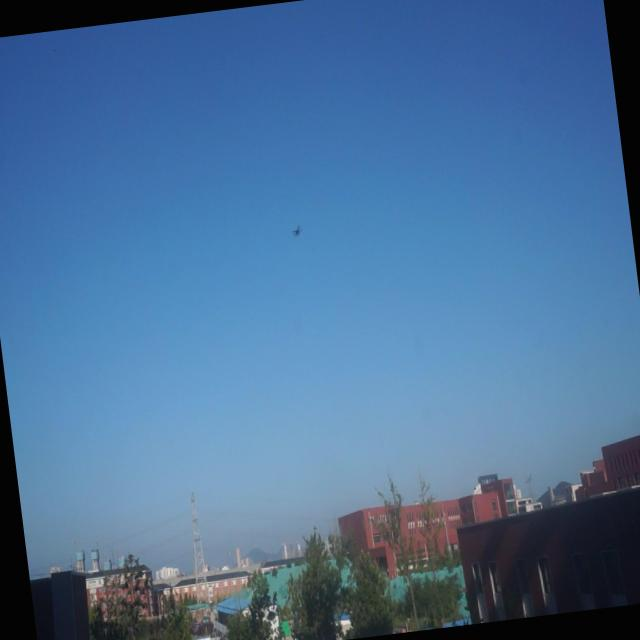drone: (288, 221, 304, 243)
